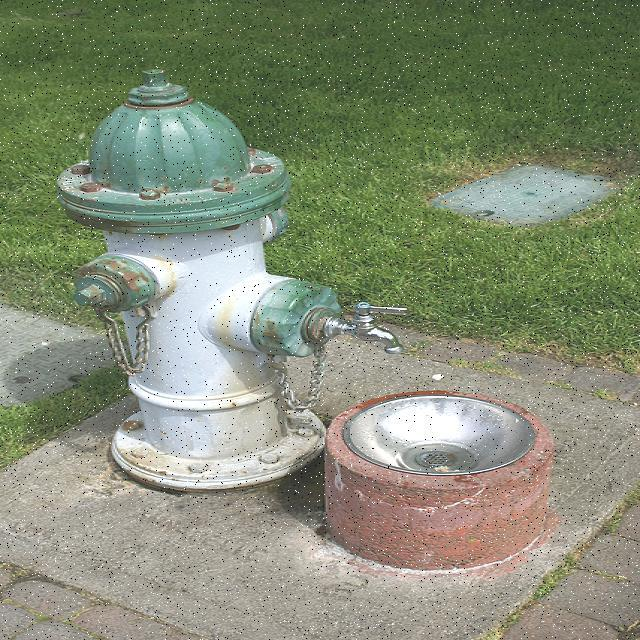fire_hydrant: (59, 72, 406, 497)
